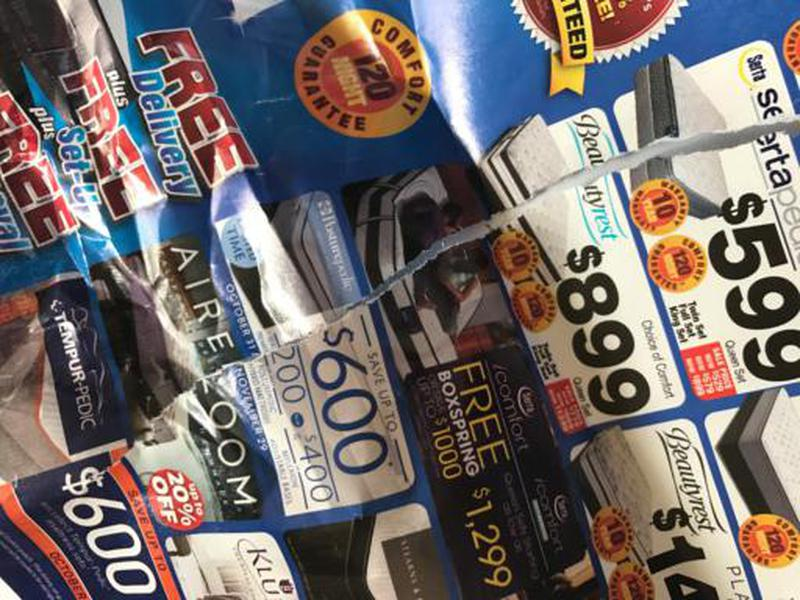paper: (1, 1, 800, 599)
